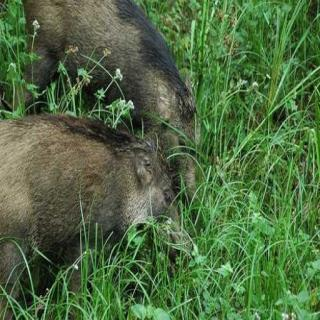Pig: (0, 94, 186, 274), (55, 0, 202, 180)
